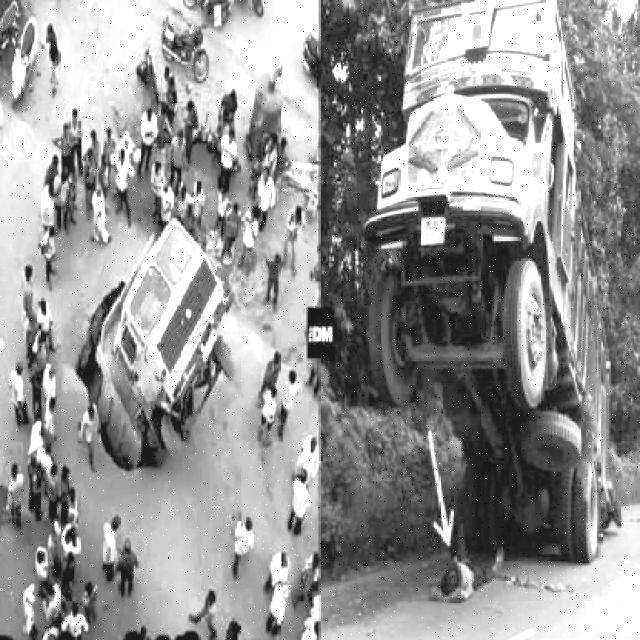HCV: (355, 60, 618, 593), (81, 197, 228, 427)
